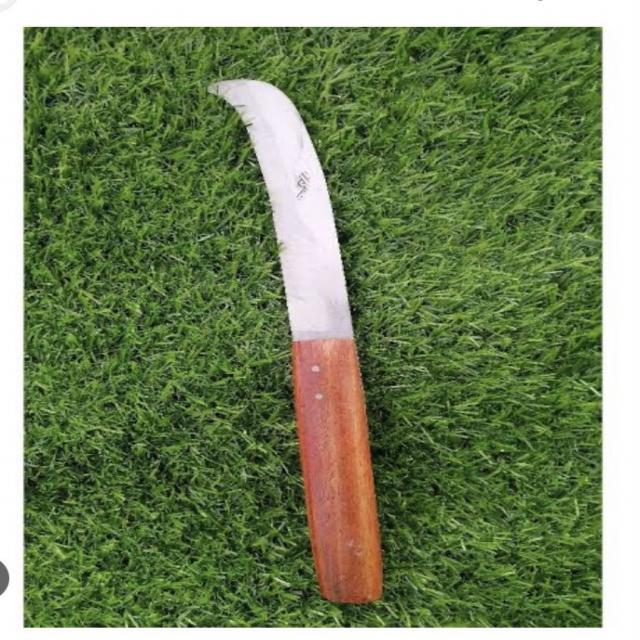Knife: (192, 69, 412, 616)
